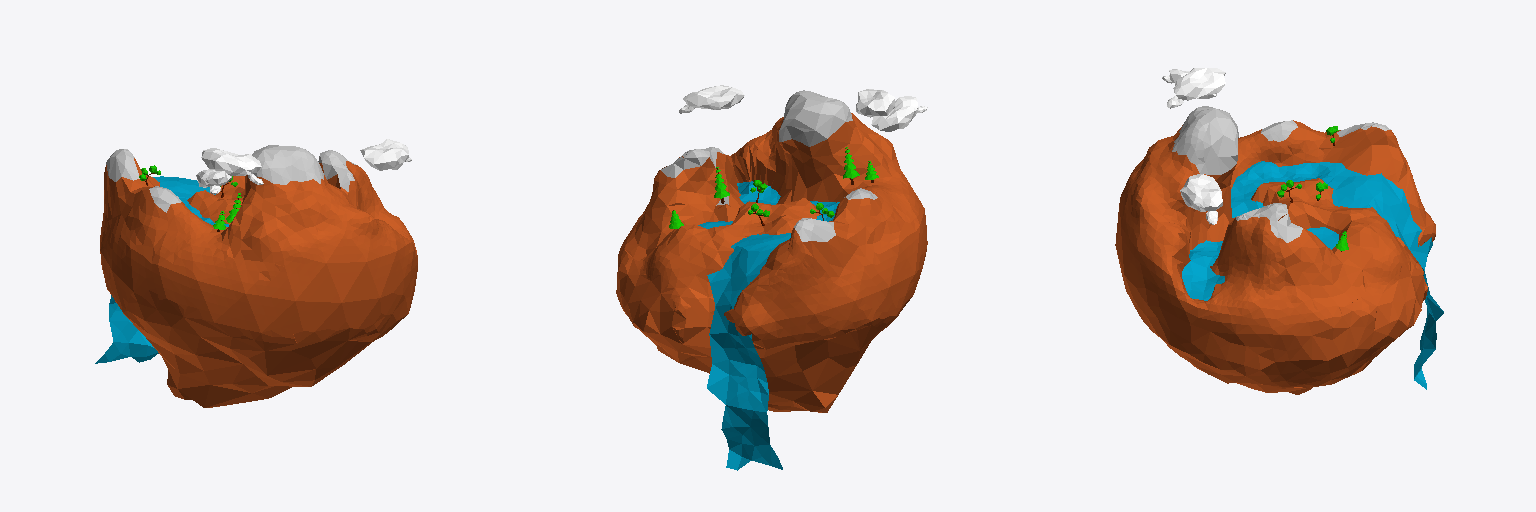
File: island.obj
3 renders of one model, left to right at view 1: azimuth 30°, elevation 25°; view 2: azimuth 150°, elevation 25°; view 3: azimuth 270°, elevation 25°, orthographic.
Visible parts, largest first — view 1: Icosphere_Icosphere.001, Plane, Icosphere.004_Icosphere.005, Icosphere.005_Icosphere.006, Icosphere.002, Icosphere.001_Icosphere, Icosphere.003; view 2: Icosphere_Icosphere.001, Plane, Icosphere.004_Icosphere.005, Icosphere.005_Icosphere.006, Icosphere.001_Icosphere, Icosphere.003, Icosphere.002; view 3: Icosphere_Icosphere.001, Plane, Icosphere.004_Icosphere.005, Icosphere.005_Icosphere.006, Icosphere.002, Icosphere.001_Icosphere.
Boxes of the visible parts, <box> form: Icosphere_Icosphere.001: <box>100,158,417,407</box>; Plane: <box>95,176,228,363</box>; Icosphere.004_Icosphere.005: <box>252,145,323,184</box>; Icosphere.005_Icosphere.006: <box>106,149,355,212</box>; Icosphere.002: <box>201,148,263,184</box>; Icosphere.001_Icosphere: <box>360,139,411,170</box>; Icosphere.003: <box>196,169,231,194</box>; Icosphere_Icosphere.001: <box>616,113,927,412</box>; Plane: <box>698,181,839,470</box>; Icosphere.004_Icosphere.005: <box>779,90,852,146</box>; Icosphere.005_Icosphere.006: <box>661,147,877,241</box>; Icosphere.001_Icosphere: <box>679,85,744,113</box>; Icosphere.003: <box>871,96,927,131</box>; Icosphere.002: <box>856,89,894,117</box>; Icosphere_Icosphere.001: <box>1115,120,1435,394</box>; Plane: <box>1182,161,1443,389</box>; Icosphere.004_Icosphere.005: <box>1172,106,1238,174</box>; Icosphere.005_Icosphere.006: <box>1236,120,1390,242</box>; Icosphere.002: <box>1167,68,1225,108</box>; Icosphere.001_Icosphere: <box>1180,174,1222,224</box>.
Size of the model in its own units: 1945 by 2072 by 2059.